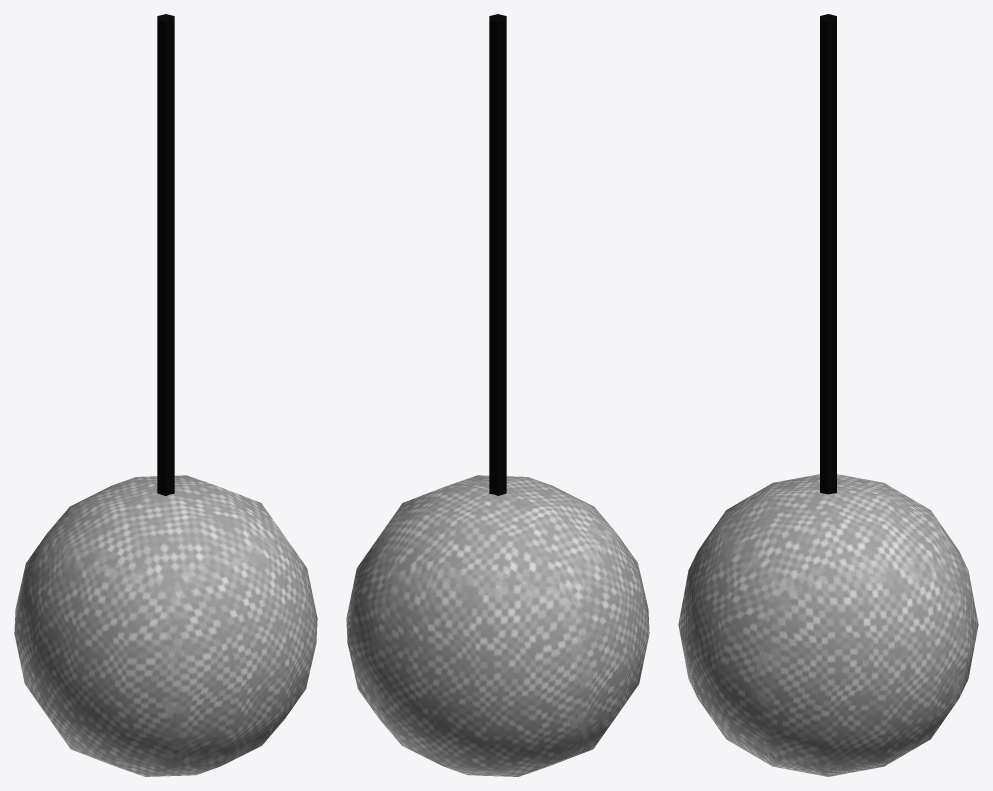
The model's file is DiscoBall_MDL.fbx.
3 views of the same model, side by side, from view 1: azimuth 30°, elevation 25°; view 2: azimuth 150°, elevation 25°; view 3: azimuth 270°, elevation 25° (orthographic).
Visible parts, largest first — view 1: DiscoBall_MDL; view 2: DiscoBall_MDL; view 3: DiscoBall_MDL.
Part boxes in pixels (x1,y1,x2,y2): DiscoBall_MDL: [14, 14, 317, 776]; DiscoBall_MDL: [346, 14, 649, 776]; DiscoBall_MDL: [678, 14, 978, 776].
Size of the model in its own units: 0.8785 by 2.4 by 0.8785.
